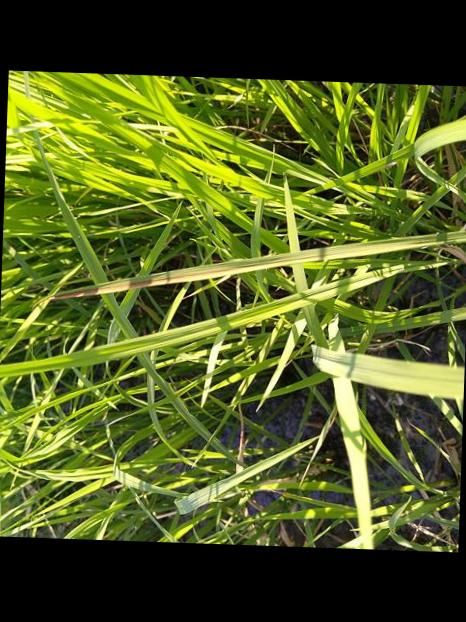Leaf Streak: (55, 234, 451, 299)
